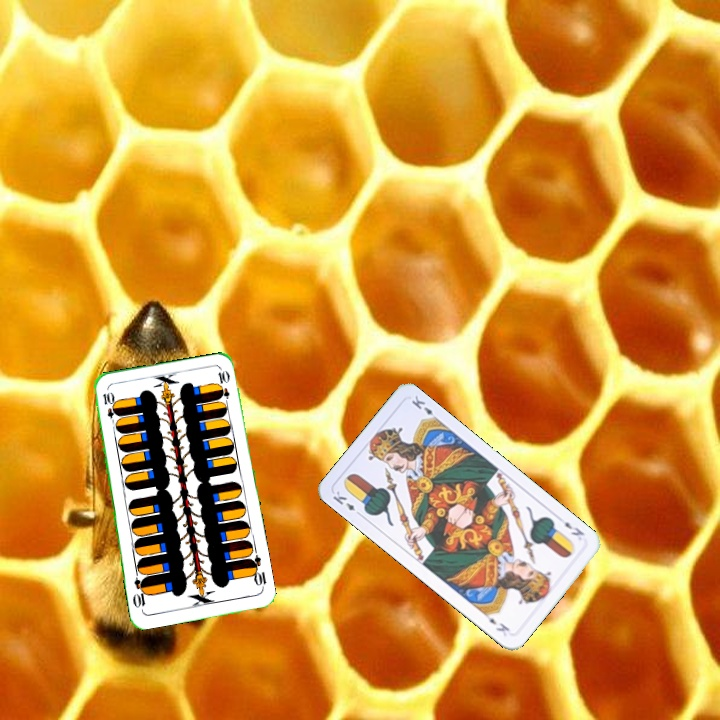E10: (245, 552, 269, 592), (98, 388, 119, 427)
EK: (329, 487, 365, 519), (560, 517, 587, 538)
